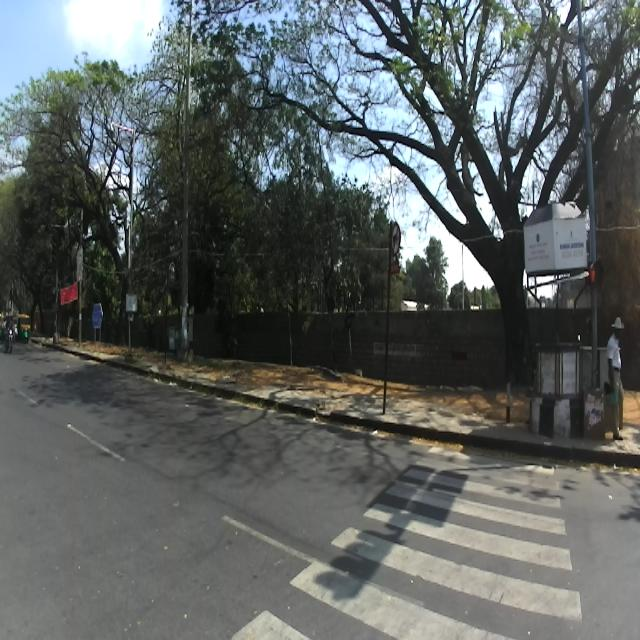zebra crossing ahead at: (258, 439, 581, 640)
